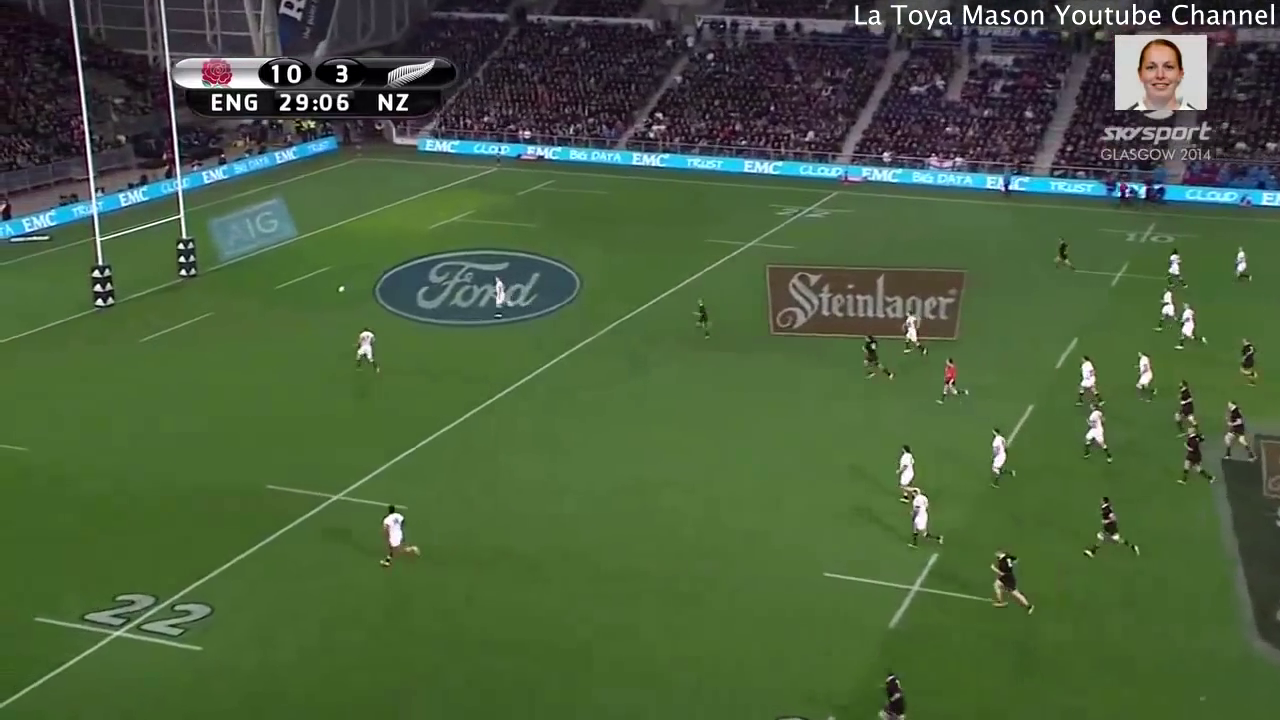10_metre: (819, 548, 1003, 644), (1090, 217, 1201, 252), (1072, 258, 1176, 288)
ball: (335, 282, 347, 295)
player: (1077, 493, 1142, 565), (987, 544, 1041, 618), (373, 501, 421, 576), (1072, 400, 1117, 464), (1219, 400, 1263, 463), (1176, 423, 1218, 489), (904, 487, 945, 553), (1172, 375, 1212, 439), (857, 329, 900, 388), (1070, 352, 1113, 407), (985, 424, 1019, 491), (933, 354, 971, 409), (893, 440, 925, 505), (874, 666, 912, 720), (1232, 335, 1268, 390), (1129, 348, 1162, 406), (1173, 299, 1209, 352), (349, 324, 384, 378), (897, 308, 931, 358), (1150, 286, 1181, 336), (1161, 244, 1193, 292), (687, 296, 716, 343), (485, 271, 510, 322), (1050, 236, 1076, 275), (1230, 241, 1253, 284)
post: (81, 117, 204, 312)
